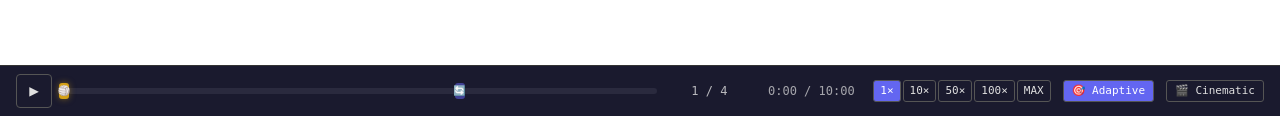
ReplayControls chapter tooltip time › tooltip shows correct time when session_start is deduped by pass_ball at index 0
Hover over the button "🔄" at (460, 91), box [455,83,465,99]
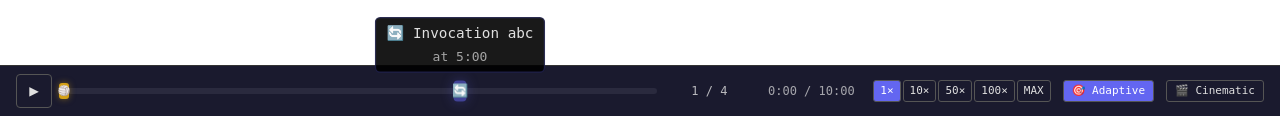
expect the tooltip "🔄 Invocation abc at 5:00" is shown: met, box [374,16,545,73]
